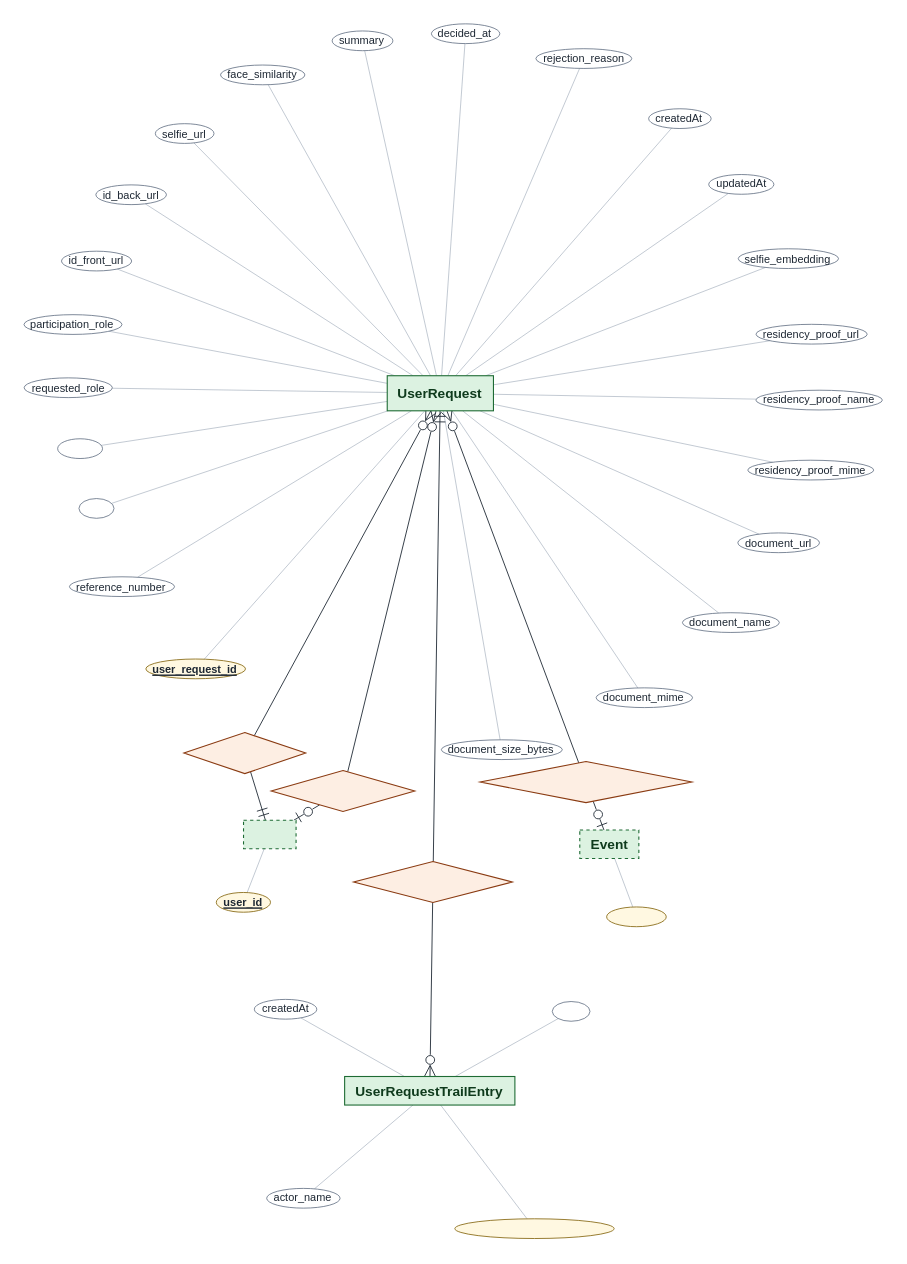
Image size: 907x1264. Some labels were removed from this diagram. The centre of each missing label's shape, as x and y in pixels:
DECIDES_REQUEST: point (342, 790)
event_id: point (635, 916)
FILES_REQUEST: point (244, 752)
kind: point (96, 508)
label: point (570, 1011)
REQUEST_CONCERNS_EVENT: point (585, 781)
REQUEST_HAS_TRAIL: point (432, 881)
status: point (79, 448)
User: point (269, 834)
user_request_trail_entry_id: point (534, 1228)
